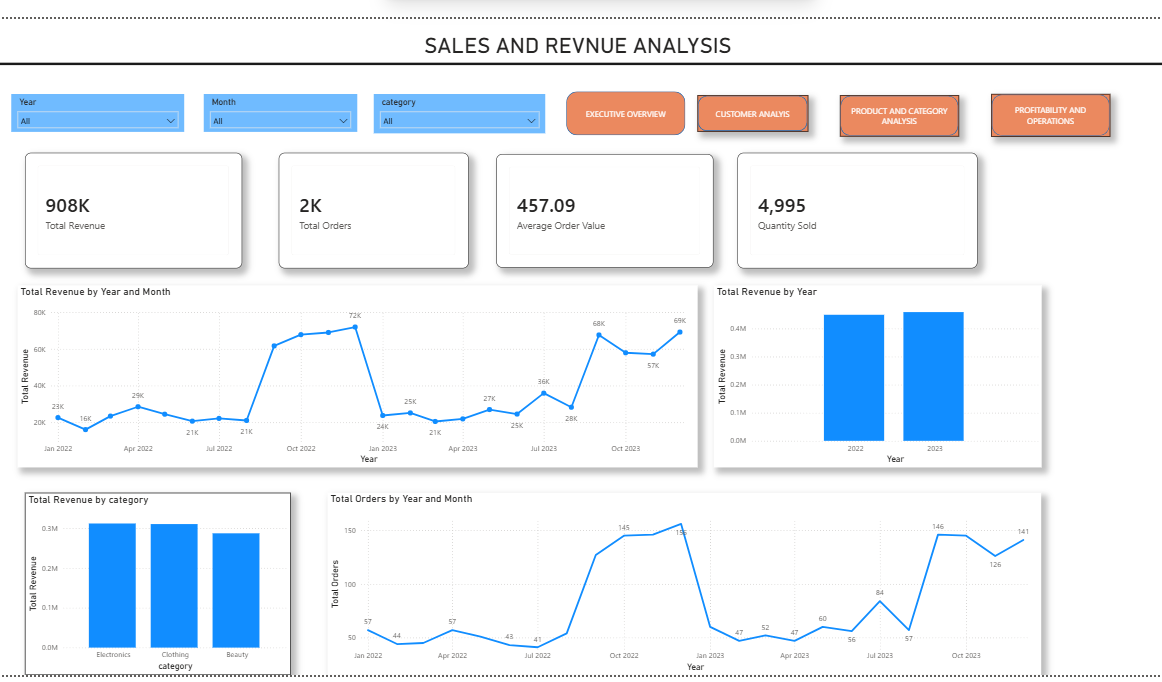

The page's visual inventory and layout, read from the dashboard file:
{"tool":"powerbi","page":{"name":"SALES AND REVENUE ANALYSIS","canvas":[1920,1080],"ordinal":1},"visuals":[{"type":"slicer","fields":{"Values":["Calendar.Date.Variation.Date Hierarchy.Year"]},"box":[18,124,285,62.5],"z":0},{"type":"slicer","fields":{"Values":["Calendar.Date.Variation.Date Hierarchy.Month"]},"box":[336,124,252.5,62.5],"z":1000},{"type":"slicer","fields":{"Values":["RETAILSALES.category"]},"box":[616,124,282.5,65],"z":2000},{"type":"cardVisual","fields":{"Data":["RETAILSALES.Total Revenue"]},"box":[42,220,357.5,190],"z":3000},{"type":"cardVisual","fields":{"Data":["RETAILSALES.Total Orders"]},"box":[460,220,312.5,190],"z":4000},{"type":"cardVisual","fields":{"Data":["RETAILSALES.Average Order Value"]},"box":[818,222,357.5,187.5],"z":5000},{"type":"cardVisual","fields":{"Data":["RETAILSALES.Quantity Sold"]},"box":[1214,220,395,190],"z":6000},{"type":"lineChart","fields":{"Category":["Calendar.Date.Variation.Date Hierarchy.Year","Calendar.Date.Variation.Date Hierarchy.Month"],"Y":["RETAILSALES.Total Revenue"]},"box":[28,438,1120,300],"z":7000},{"type":"clusteredColumnChart","fields":{"Category":["Calendar.Date.Variation.Date Hierarchy.Year"],"Y":["RETAILSALES.Total Revenue"]},"box":[1176,438,540,300],"z":8000},{"type":"columnChart","fields":{"Category":["RETAILSALES.category"],"Y":["RETAILSALES.Total Revenue"]},"box":[42,780,437.5,300],"z":9000},{"type":"lineChart","fields":{"Category":["Calendar.Date.Variation.Date Hierarchy.Year","Calendar.Date.Variation.Date Hierarchy.Month"],"Y":["RETAILSALES.Total Orders"]},"box":[540,780,1175,300],"z":10000},{"type":"textbox","title":"SALES AND REVNUE ANALYSIS","box":[694,22,538,92],"z":11000},{"type":"shape","title":"CUSTOMER ANALYSIS","box":[1148,126,182,60],"z":12000},{"type":"shape","title":"PRODUCT AND CATEGORY ANALYSIS","box":[1384,126,196,68],"z":13000},{"type":"shape","title":"PROFITABILITY AND OPERATIONS","box":[1632,124,196,70],"z":14000},{"type":"shape","box":[932,120,196,72],"z":15000},{"type":"shape","box":[0,68,1920,12],"z":16000}]}

Visuals, with their boxes on the page's 1920x1080 design canvas (x1, y1, x2, y2). These are canvas units, not pixel positions in the 1162x682 screenshot, which may show the page scaled, cropped or inside an application window:
slicer - Calendar.Date.Variation.Date Hierarchy.Year: {"left": 18, "top": 124, "right": 303, "bottom": 186}
slicer - Calendar.Date.Variation.Date Hierarchy.Month: {"left": 336, "top": 124, "right": 588, "bottom": 186}
slicer - RETAILSALES.category: {"left": 616, "top": 124, "right": 898, "bottom": 189}
cardVisual - RETAILSALES.Total Revenue: {"left": 42, "top": 220, "right": 400, "bottom": 410}
cardVisual - RETAILSALES.Total Orders: {"left": 460, "top": 220, "right": 772, "bottom": 410}
cardVisual - RETAILSALES.Average Order Value: {"left": 818, "top": 222, "right": 1176, "bottom": 410}
cardVisual - RETAILSALES.Quantity Sold: {"left": 1214, "top": 220, "right": 1609, "bottom": 410}
lineChart - Calendar.Date.Variation.Date Hierarchy.Year x Calendar.Date.Variation.Date Hierarchy.Month: {"left": 28, "top": 438, "right": 1148, "bottom": 738}
clusteredColumnChart - Calendar.Date.Variation.Date Hierarchy.Year x RETAILSALES.Total Revenue: {"left": 1176, "top": 438, "right": 1716, "bottom": 738}
columnChart - RETAILSALES.category x RETAILSALES.Total Revenue: {"left": 42, "top": 780, "right": 480, "bottom": 1080}
lineChart - Calendar.Date.Variation.Date Hierarchy.Year x Calendar.Date.Variation.Date Hierarchy.Month: {"left": 540, "top": 780, "right": 1715, "bottom": 1080}
"SALES AND REVNUE ANALYSIS" textbox: {"left": 694, "top": 22, "right": 1232, "bottom": 114}
"CUSTOMER ANALYSIS" shape: {"left": 1148, "top": 126, "right": 1330, "bottom": 186}
"PRODUCT AND CATEGORY ANALYSIS" shape: {"left": 1384, "top": 126, "right": 1580, "bottom": 194}
"PROFITABILITY AND OPERATIONS" shape: {"left": 1632, "top": 124, "right": 1828, "bottom": 194}
shape: {"left": 932, "top": 120, "right": 1128, "bottom": 192}
shape: {"left": 0, "top": 68, "right": 1920, "bottom": 80}
